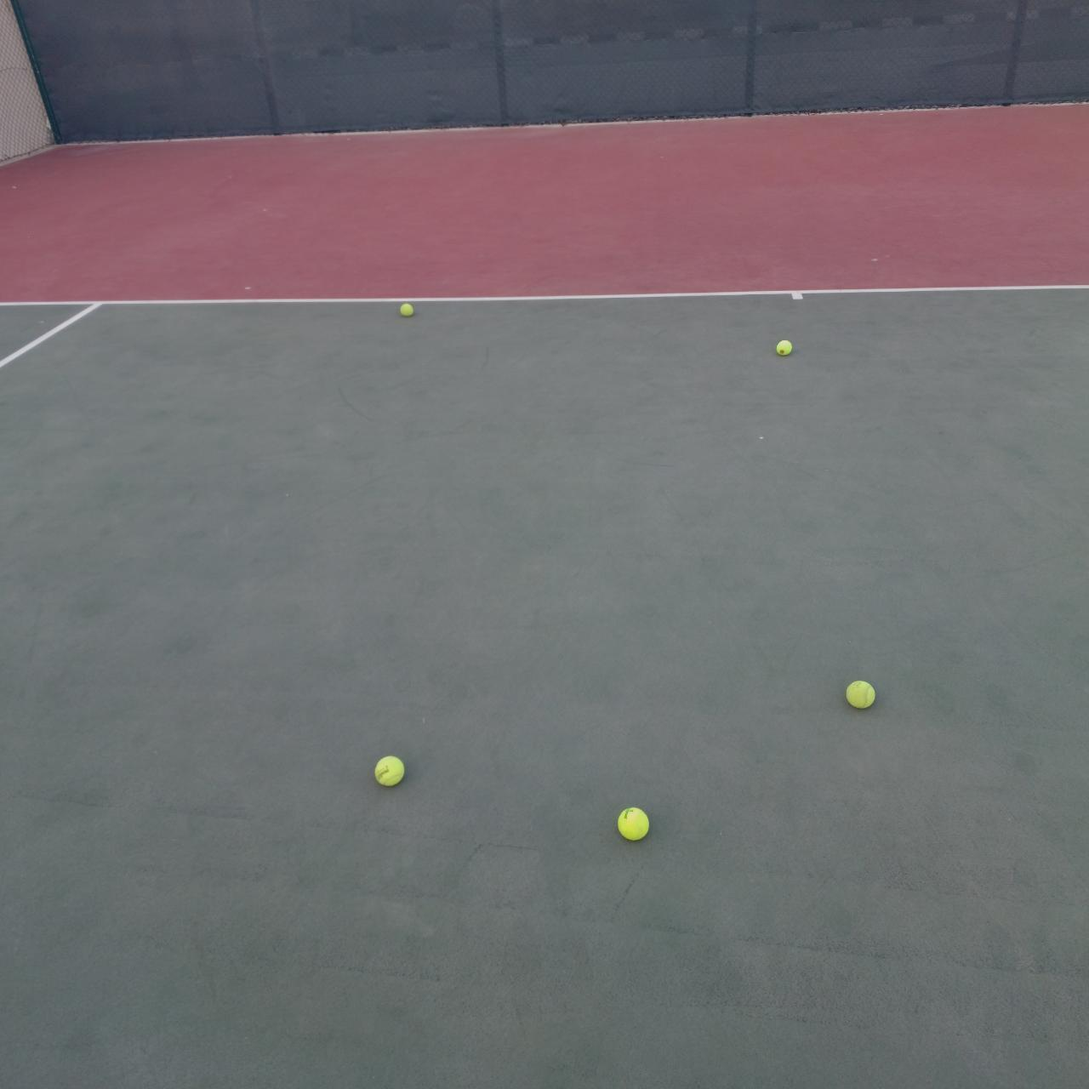tennis-ball: (617, 804, 652, 841), (374, 753, 407, 787), (846, 677, 878, 709), (776, 339, 793, 356), (400, 304, 413, 317)
